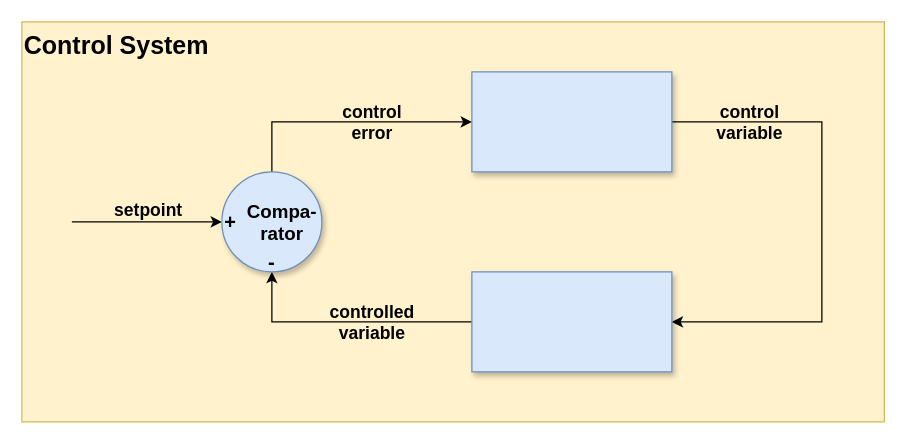
Some shapes in this 906 by 444 pixel diagram are drawn without their labels. The shapes that lost their labels are listed below. From the top down, each one's centre as x and y in pixels, then its label:
At pixel 572 123: "Controller".
At pixel 572 323: "Controlled System".
